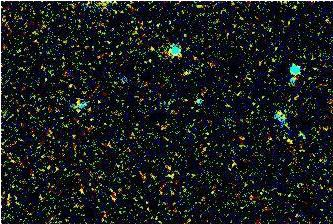star: (170, 56, 200, 86)
